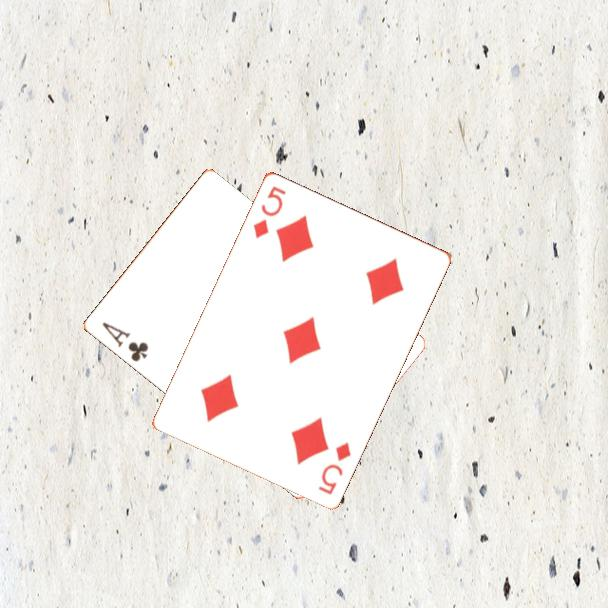c01: (98, 318, 151, 365)
d05: (249, 182, 289, 241), (314, 438, 354, 497)
